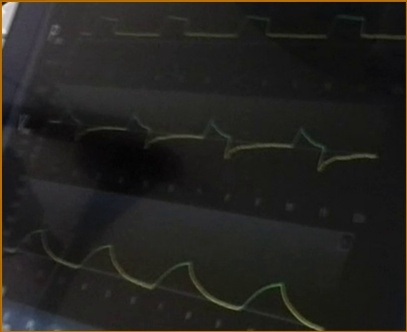Normal Flow: (49, 95, 377, 173)
Normal Volume: (3, 222, 323, 328)
